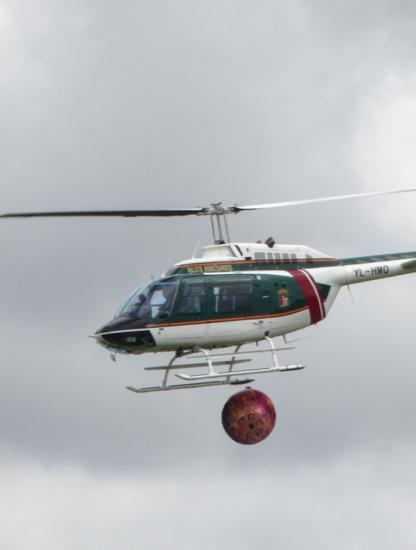Mangostan: (220, 388, 278, 446)
